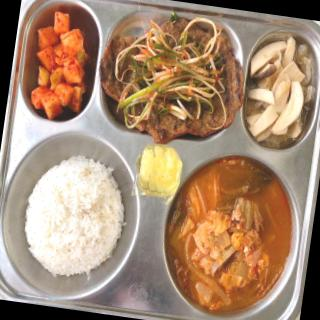Nasi: (18, 147, 131, 292)
